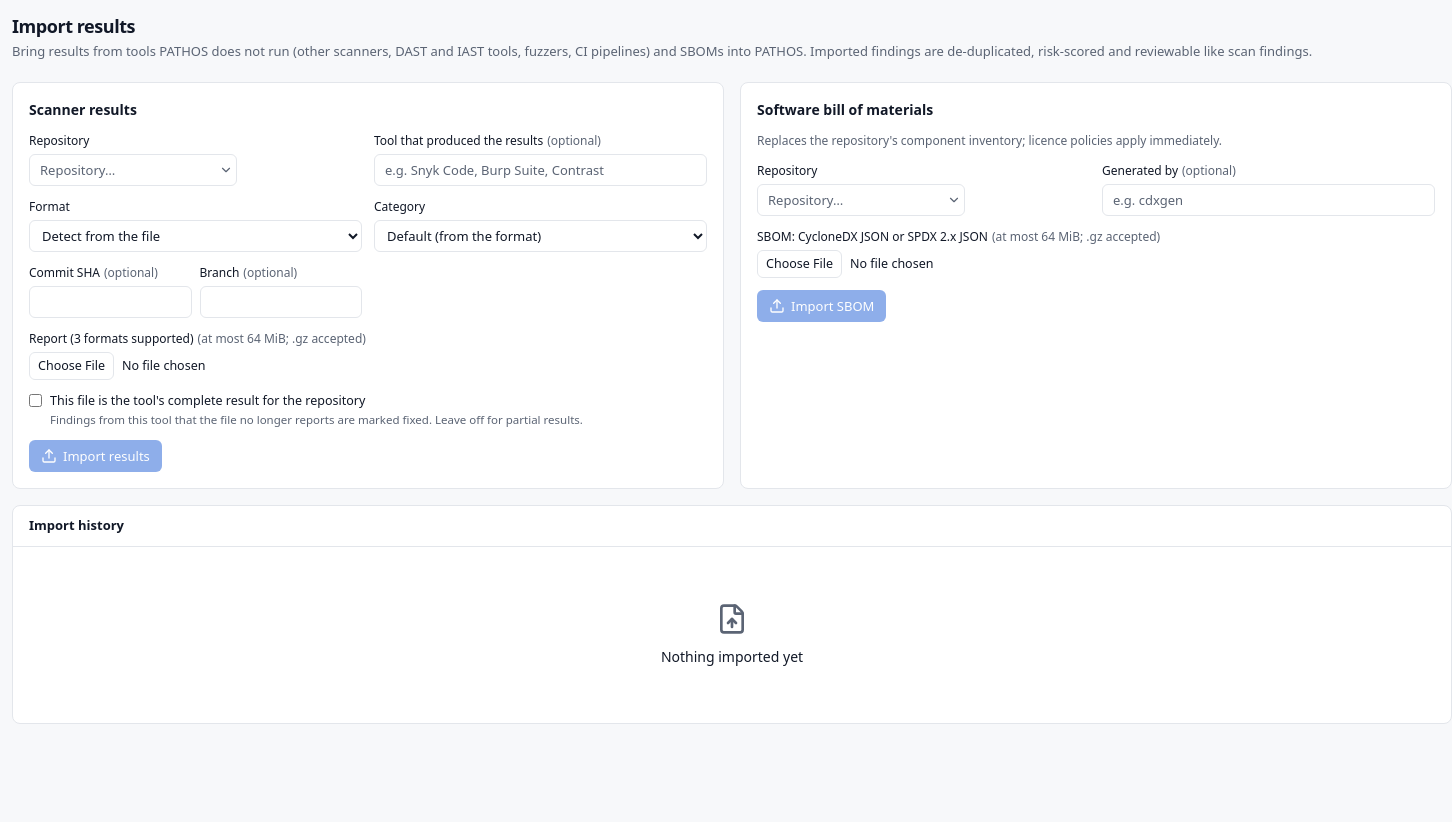
Test: import results › imports with a selected format; the tool defaults to the format's tool
Later steps or results of the test are not shown.
Select "SARIF 2.1" in the dropdown labelled "Format" at (196, 236), box [29,220,362,252]
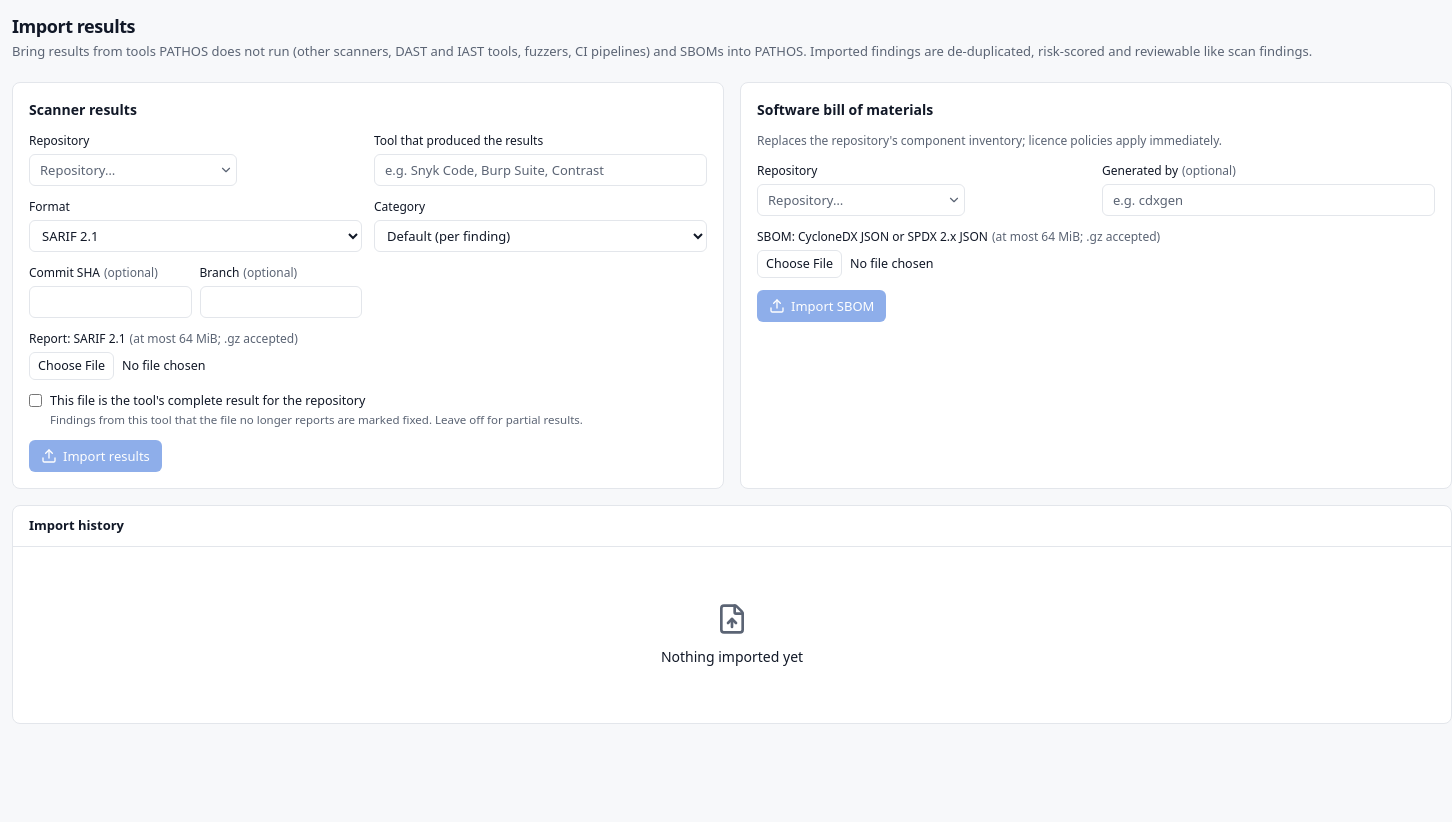
Select "Gitleaks JSON" in the dropdown labelled "Format" at (196, 236), box [29,220,362,252]
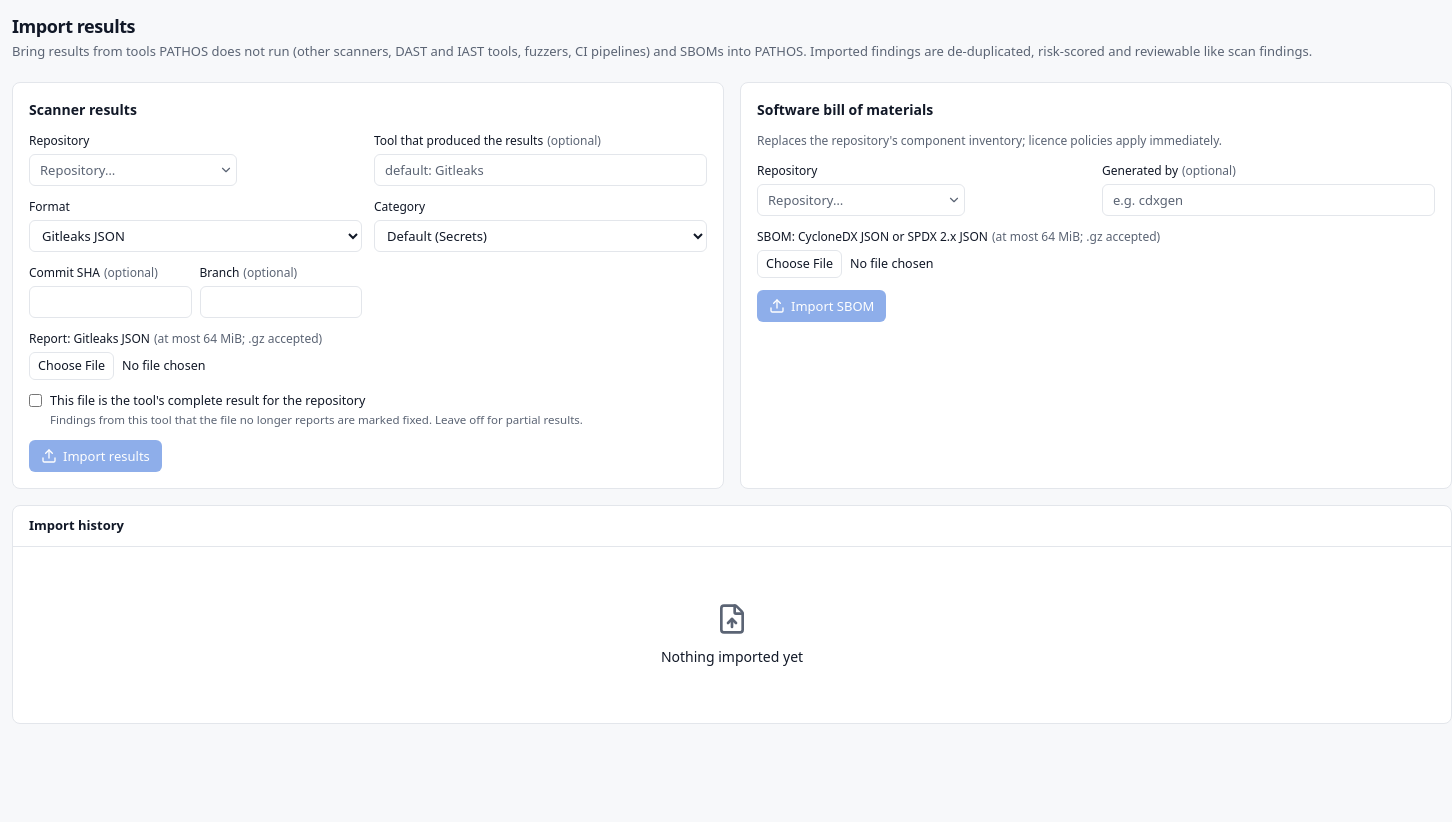
Now the field labelled "Tool that produced the results(optional)" has attribute placeholder="default: Gitleaks", box [374,154,707,186]
